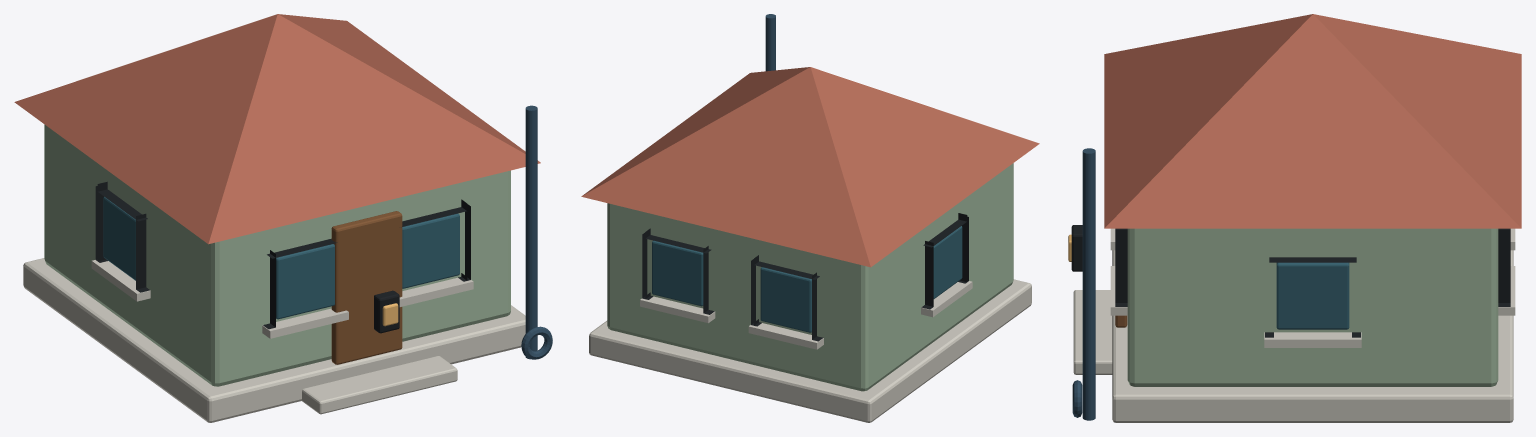
Rendered from RES_LOW_1x1_002.glb.
3 renders of one model, left to right at view 1: azimuth 30°, elevation 25°; view 2: azimuth 150°, elevation 25°; view 3: azimuth 270°, elevation 25°, orthographic. The views are drawn at different scales.
Parts seen in each view (by area): view 1: RES_LOW_1x1_002_Visual; view 2: RES_LOW_1x1_002_Visual; view 3: RES_LOW_1x1_002_Visual.
Boxes of the visible parts, x1,y1,x2,y2 form: RES_LOW_1x1_002_Visual: (14,14,552,422); RES_LOW_1x1_002_Visual: (581,14,1039,422); RES_LOW_1x1_002_Visual: (1068,14,1521,422).
Size of what is drawn, in the model's own units: 1.59 by 1.38 by 1.74.
